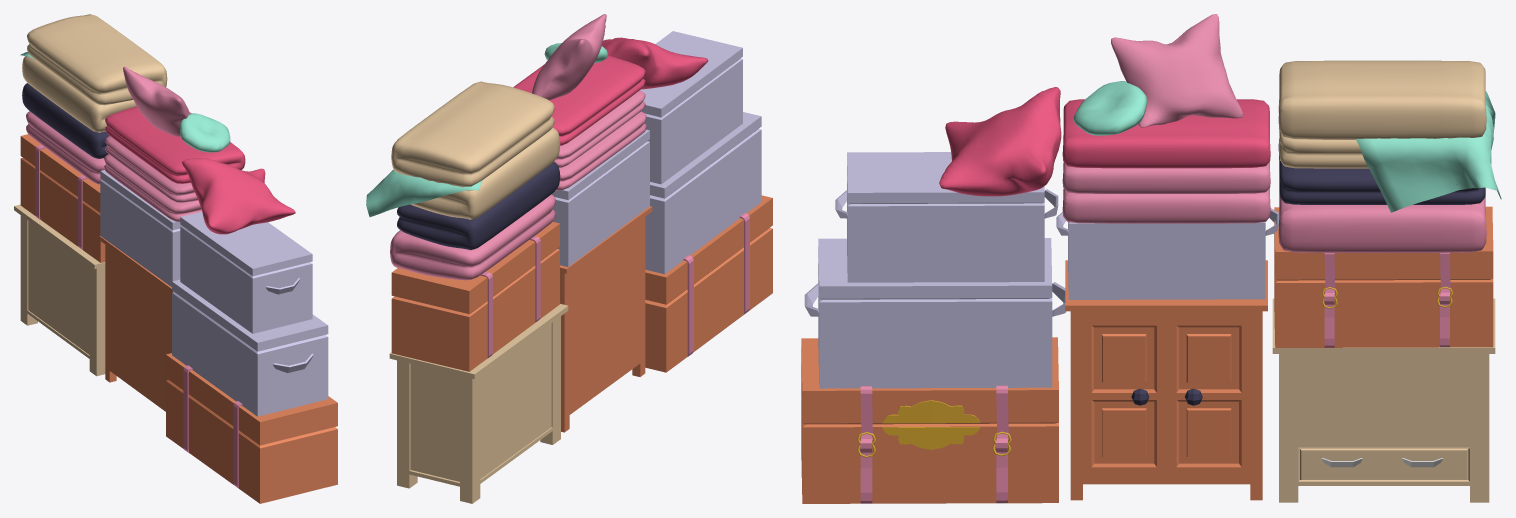
The model's file is suitecases_grouped.fbx.
3 views of the same model, side by side, from view 1: azimuth 30°, elevation 25°; view 2: azimuth 150°, elevation 25°; view 3: azimuth 270°, elevation 25° (orthographic). The views are drawn at different scales.
Parts seen in each view (by area): view 1: chest1, box, box.001, Cube.106, comode, cloth, chest1.001, box.002, pillow.002, cloth.004, cloth.005, pillow (+5 smaller); view 2: Cube.106, chest1.001, comode, chest1, cloth, box, box.001, box.002, cloth.007, cloth.006, cloth.004, cloth.005 (+5 smaller); view 3: comode, chest1, Cube.106, box, box.001, chest1.001, cloth, box.002, cloth.004, cloth.007, pillow.002, pillow (+6 smaller).
Part boxes in pixels (x1,y1,x2,y2): chest1: (166,353,337,503); box: (172,279,328,416); box.001: (180,211,312,333); Cube.106: (14,204,105,376); comode: (99,236,173,411); cloth: (27,14,167,105); chest1.001: (20,134,105,262); box.002: (100,170,182,286); pillow.002: (182,158,295,234); cloth.004: (105,106,245,183); cloth.005: (22,56,136,132); pillow: (123,66,189,136); Cube.106: (389,304,568,503); chest1.001: (391,221,559,371); comode: (560,206,652,432); chest1: (645,195,772,372); cloth: (391,81,554,187); box: (645,112,761,274); box.001: (640,31,742,184); box.002: (551,129,649,266); cloth.007: (390,194,555,280); cloth.006: (397,162,560,250); cloth.004: (513,55,645,145); cloth.005: (410,127,560,219); comode: (1065,260,1267,500); chest1: (801,337,1058,503); Cube.106: (1272,298,1495,502); box: (804,238,1065,388); box.001: (835,152,1058,282); chest1.001: (1274,206,1493,347); cloth: (1278,60,1486,139); box.002: (1056,208,1279,299); cloth.004: (1062,99,1270,168); cloth.007: (1278,193,1486,252); pillow.002: (939,87,1061,196); pillow: (1111,14,1242,127).
Size of the model in its own units: 266 by 794 by 1123.
